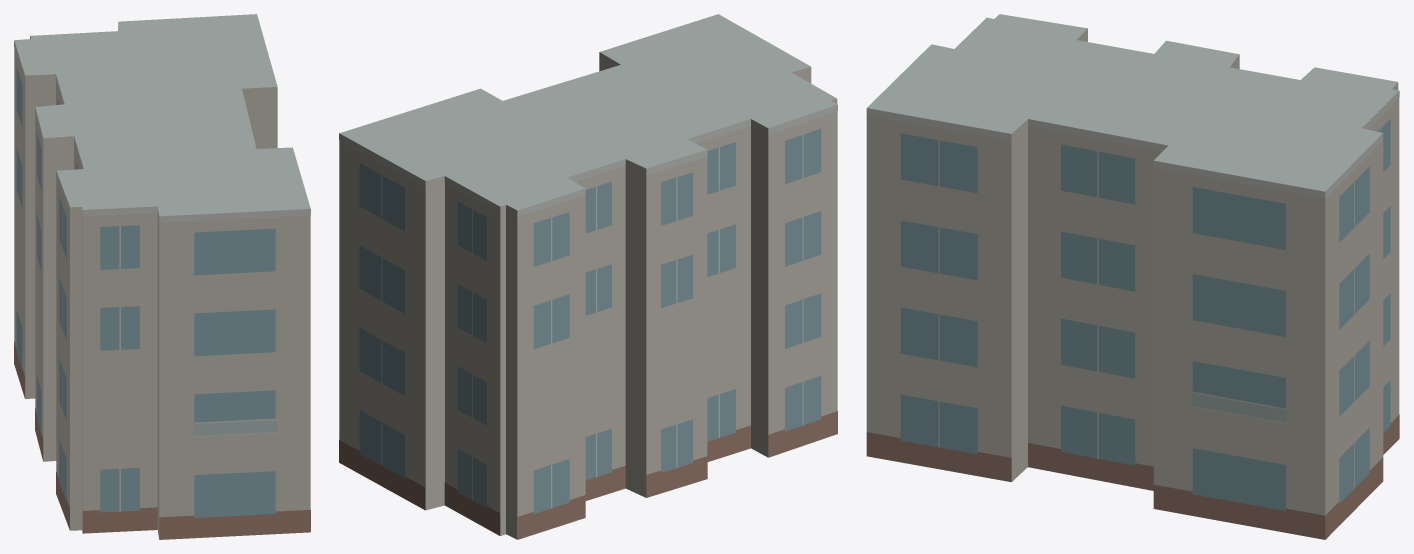
The model's file is survey-upis-32970350.glb.
3 views of the same model, side by side, from view 1: azimuth 30°, elevation 25°; view 2: azimuth 150°, elevation 25°; view 3: azimuth 270°, elevation 25° (orthographic). The views are drawn at different scales.
Parts seen in each view (by area): view 1: survey-upis-32970350.tmp; view 2: survey-upis-32970350.tmp; view 3: survey-upis-32970350.tmp.
Part boxes in pixels (x1,y1,x2,y2): survey-upis-32970350.tmp: (14,14,310,539); survey-upis-32970350.tmp: (339,14,837,539); survey-upis-32970350.tmp: (866,14,1399,539).
Bounding box in the file's own units: 13.03 × 11.9 × 16.51.
